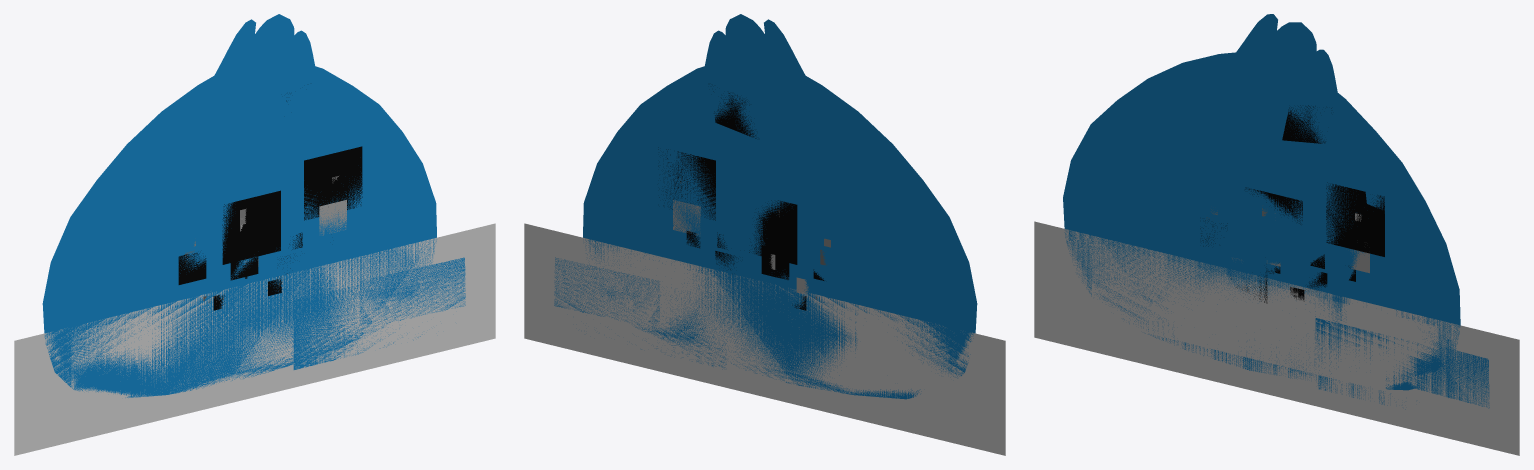
File: Skeleton Prefab Mesh _Eb_KingSlime_06_.glb
3 views of the same model, side by side, from view 1: azimuth 30°, elevation 25°; view 2: azimuth 150°, elevation 25°; view 3: azimuth 330°, elevation 25° (orthographic).
Parts seen in each view (by area): view 1: Skeleton Prefab Mesh "Eb_KingSlime_06"; view 2: Skeleton Prefab Mesh "Eb_KingSlime_06"; view 3: Skeleton Prefab Mesh "Eb_KingSlime_06".
Part boxes in pixels (x1,y1,x2,y2): Skeleton Prefab Mesh "Eb_KingSlime_06": (14,14,495,455); Skeleton Prefab Mesh "Eb_KingSlime_06": (524,14,1005,455); Skeleton Prefab Mesh "Eb_KingSlime_06": (1034,14,1519,455).
Size of the model in its own units: 5.03 by 3.78 by 0.
